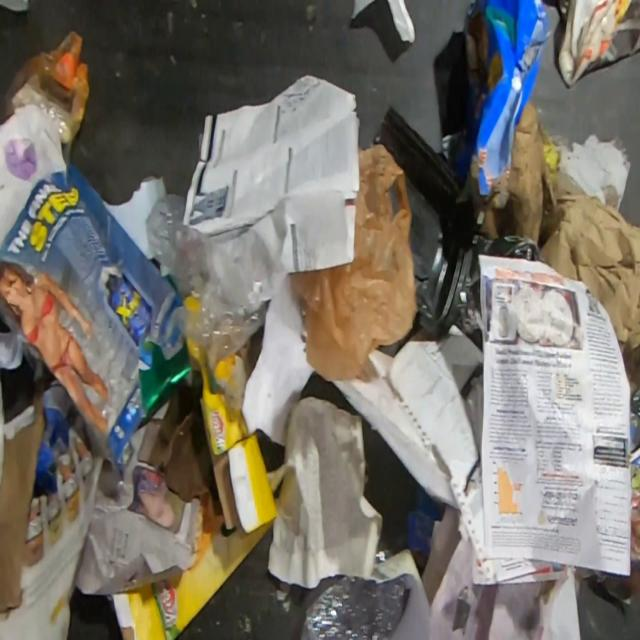cardboard: (110, 334, 280, 640), (439, 0, 552, 240), (0, 393, 46, 615)
rigid_plastic: (371, 105, 482, 341)
soft_plastic: (287, 142, 419, 384), (144, 191, 285, 371), (0, 28, 91, 145), (298, 574, 412, 640), (350, 0, 416, 44), (374, 548, 393, 564)
